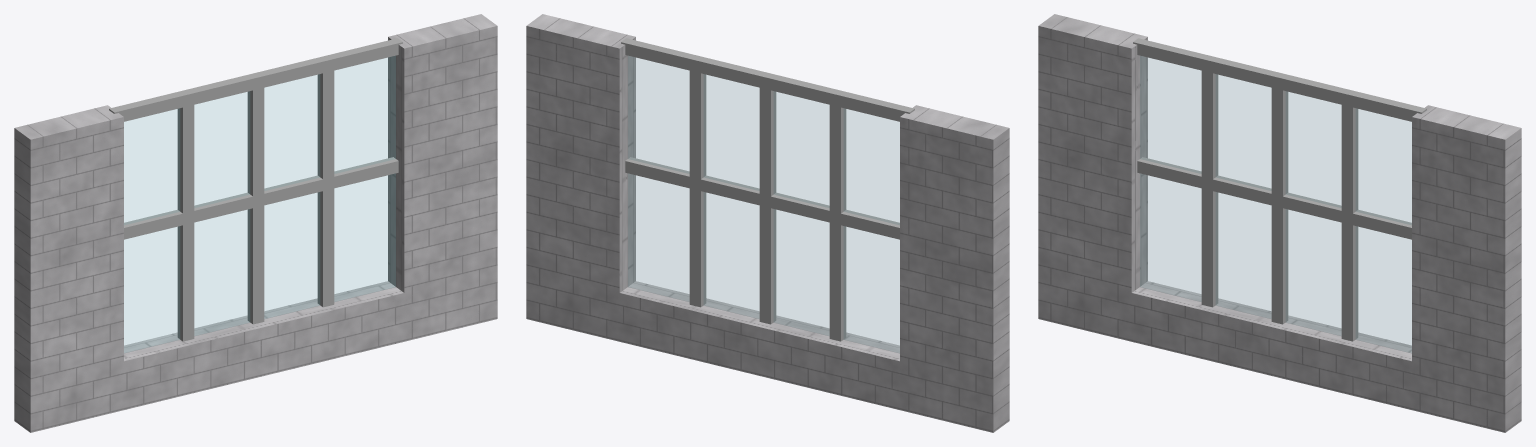
Rendered from cinderBlockWindow.glb.
3 views of the same model, side by side, from view 1: azimuth 30°, elevation 25°; view 2: azimuth 150°, elevation 25°; view 3: azimuth 330°, elevation 25° (orthographic).
Visible parts, largest first — view 1: Cube.005; view 2: Cube.005; view 3: Cube.005.
Boxes of the visible parts, box(x1,y1,x2,y2) form: Cube.005: box(14, 14, 497, 432); Cube.005: box(526, 14, 1009, 432); Cube.005: box(1038, 14, 1521, 432).
Size of the model in its own units: 10 by 6.03 by 0.6.
3 materials, 1 textured.
